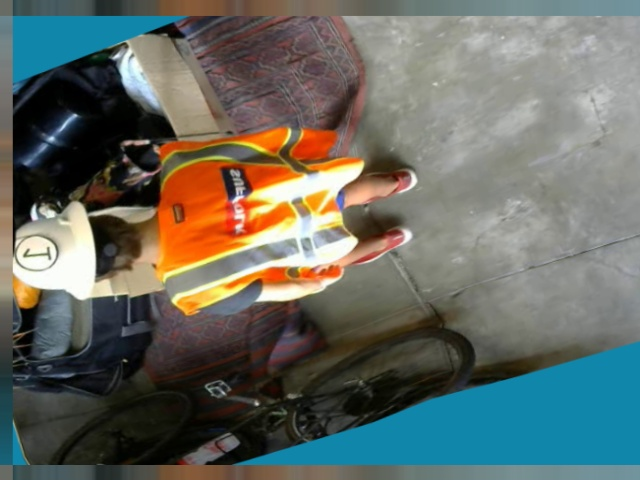one: (12, 231, 61, 275)
